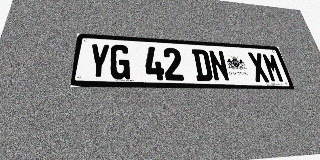2: (163, 47, 184, 81)
4: (144, 46, 165, 80)
D: (191, 49, 214, 81)
G: (109, 44, 130, 80)
M: (261, 53, 285, 83)
N: (208, 50, 230, 82)
X: (247, 52, 270, 82)
Y: (87, 43, 110, 79)
